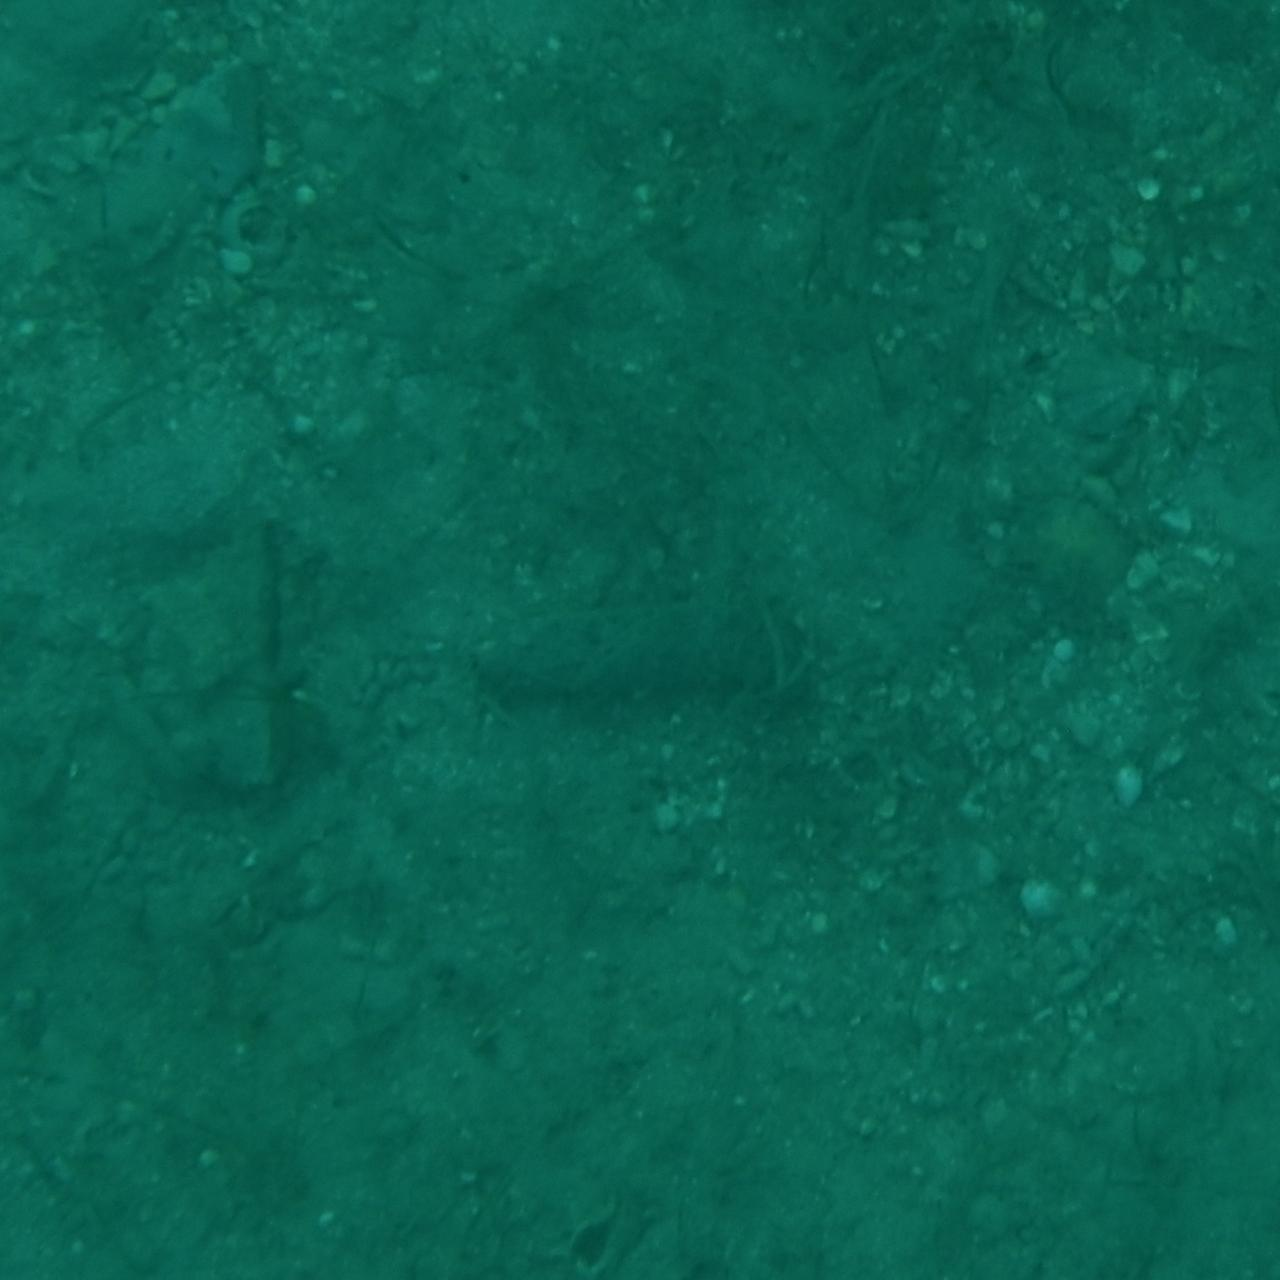Holothuria tubulosa: (466, 558, 814, 722)
